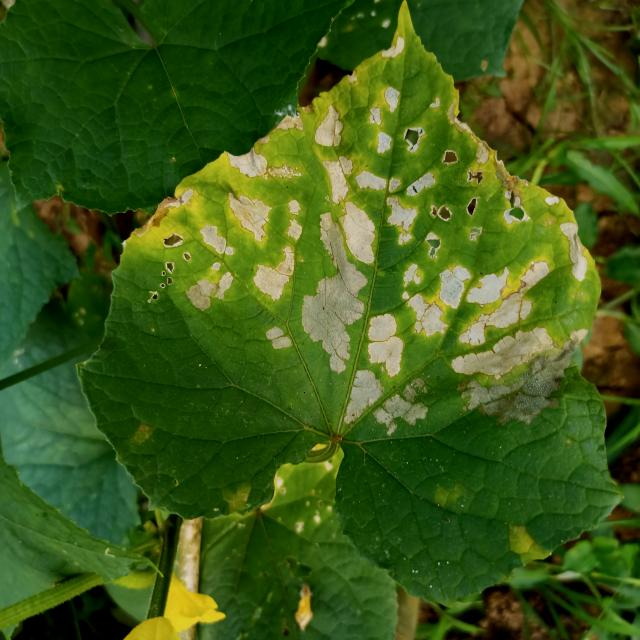disease_cucumber: (148, 34, 598, 441), (499, 519, 556, 573)
